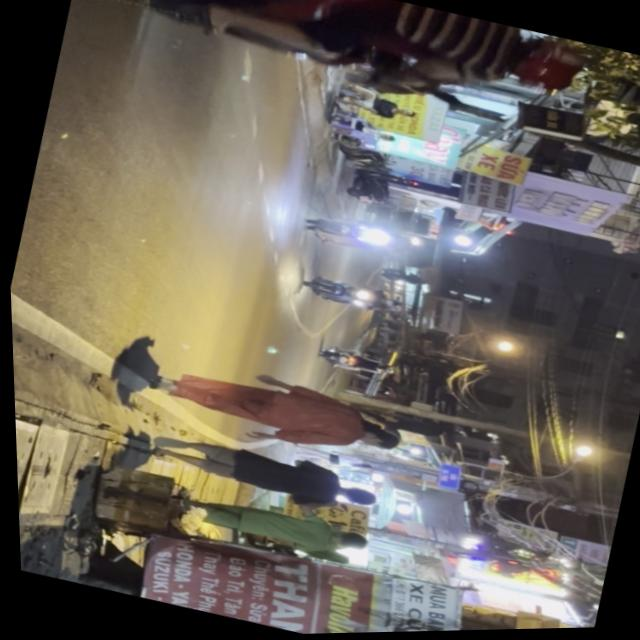helmet: (501, 49, 577, 101), (509, 33, 589, 78)
licenseplate: (77, 0, 596, 139)
